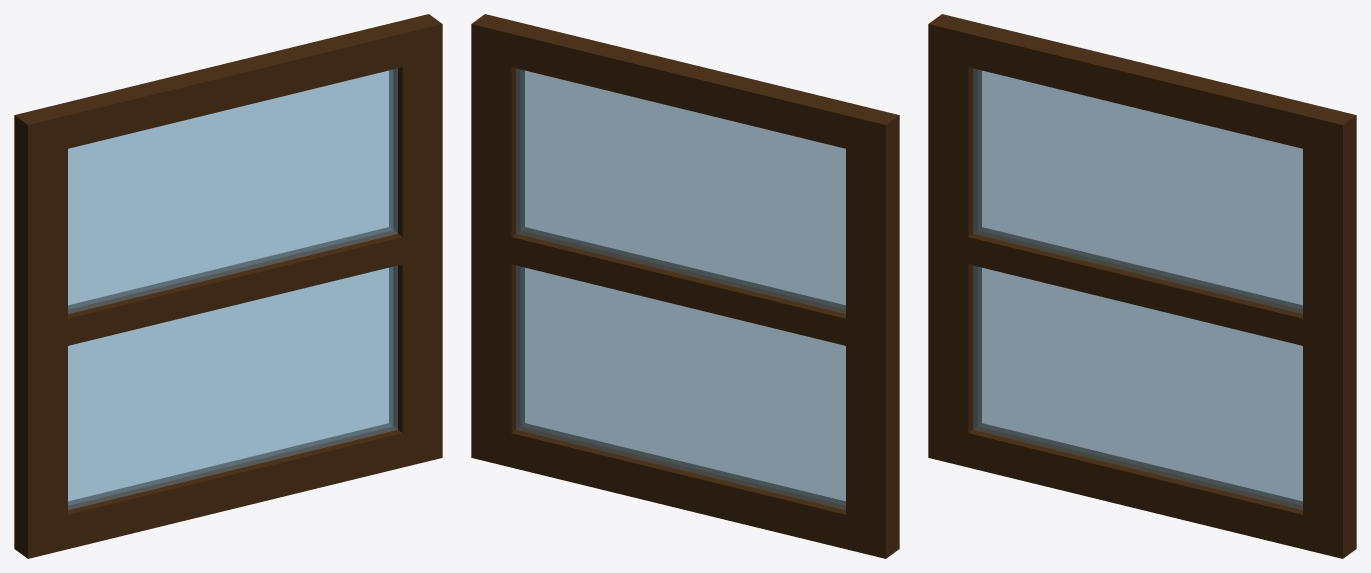
The model's file is Window.fbx.
3 views of the same model, side by side, from view 1: azimuth 30°, elevation 25°; view 2: azimuth 150°, elevation 25°; view 3: azimuth 330°, elevation 25° (orthographic).
Parts seen in each view (by area): view 1: Window; view 2: Window; view 3: Window.
Part boxes in pixels (bbox=[...]): Window: bbox=[14, 14, 442, 558]; Window: bbox=[471, 14, 899, 558]; Window: bbox=[928, 14, 1356, 558].
Size of the model in its own units: 0.9809 by 0.9809 by 0.0562.
